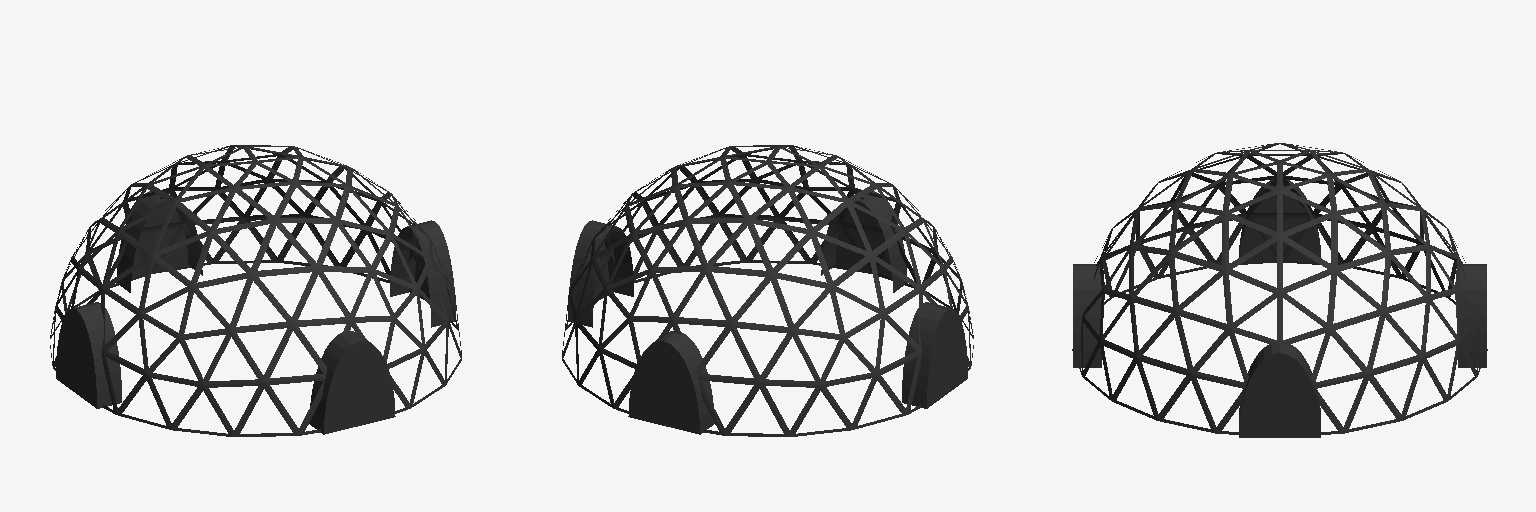
File: growhouse_framework.obj
3 renders of one model, left to right at view 1: azimuth 30°, elevation 25°; view 2: azimuth 150°, elevation 25°; view 3: azimuth 270°, elevation 25°, orthographic.
Visible parts, largest first — view 1: Framework; view 2: Framework; view 3: Framework.
Boxes of the visible parts, box(x1,y1,x2,y2) form: Framework: box(50, 145, 461, 436); Framework: box(562, 145, 973, 436); Framework: box(1072, 143, 1487, 437).
Bounding box in the file's own units: 10.02 × 5.01 × 10.02.